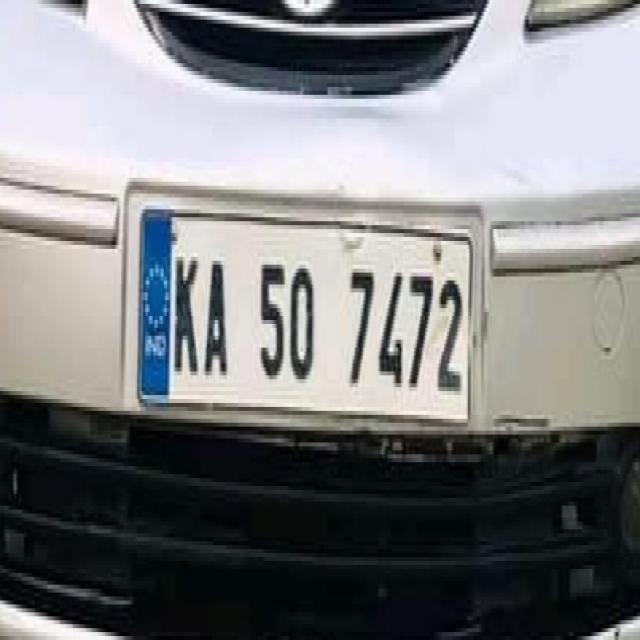0: (286, 245, 321, 393)
4: (378, 261, 405, 393)
5: (256, 236, 288, 396)
7: (344, 254, 375, 396), (406, 252, 434, 399)
A: (203, 243, 233, 394)
K: (172, 240, 202, 390)
